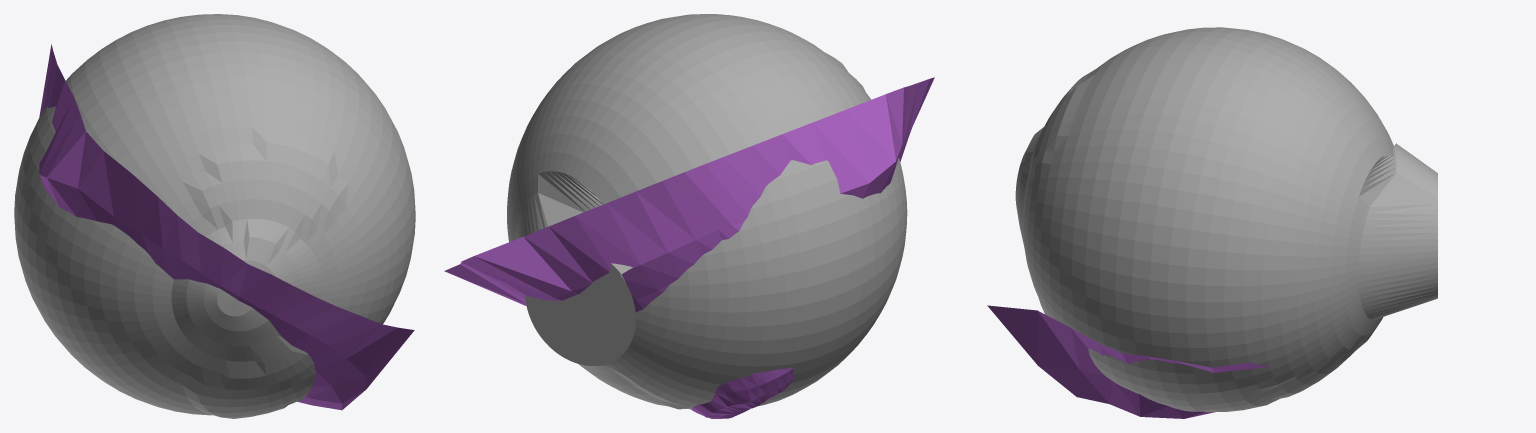
Rendered from G02_A3_ALIGNED_GT.glb.
3 views of the same model, side by side, from view 1: azimuth 30°, elevation 25°; view 2: azimuth 150°, elevation 25°; view 3: azimuth 270°, elevation 25° (orthographic). The views are drawn at different scales.
Parts seen in each view (by area): view 1: Independent_GT, A3; view 2: Independent_GT, A3; view 3: Independent_GT, A3.
Part boxes in pixels (x1=…): Independent_GT: x1=14, y1=14, x2=415, y2=418; A3: x1=39, y1=44, x2=414, y2=410; Independent_GT: x1=507, y1=14, x2=907, y2=409; A3: x1=444, y1=77, x2=934, y2=418; Independent_GT: x1=1015, y1=27, x2=1437, y2=412; A3: x1=987, y1=305, x2=1268, y2=418.
Size of the model in its own units: 0.00431 by 0.004 by 0.00577.
